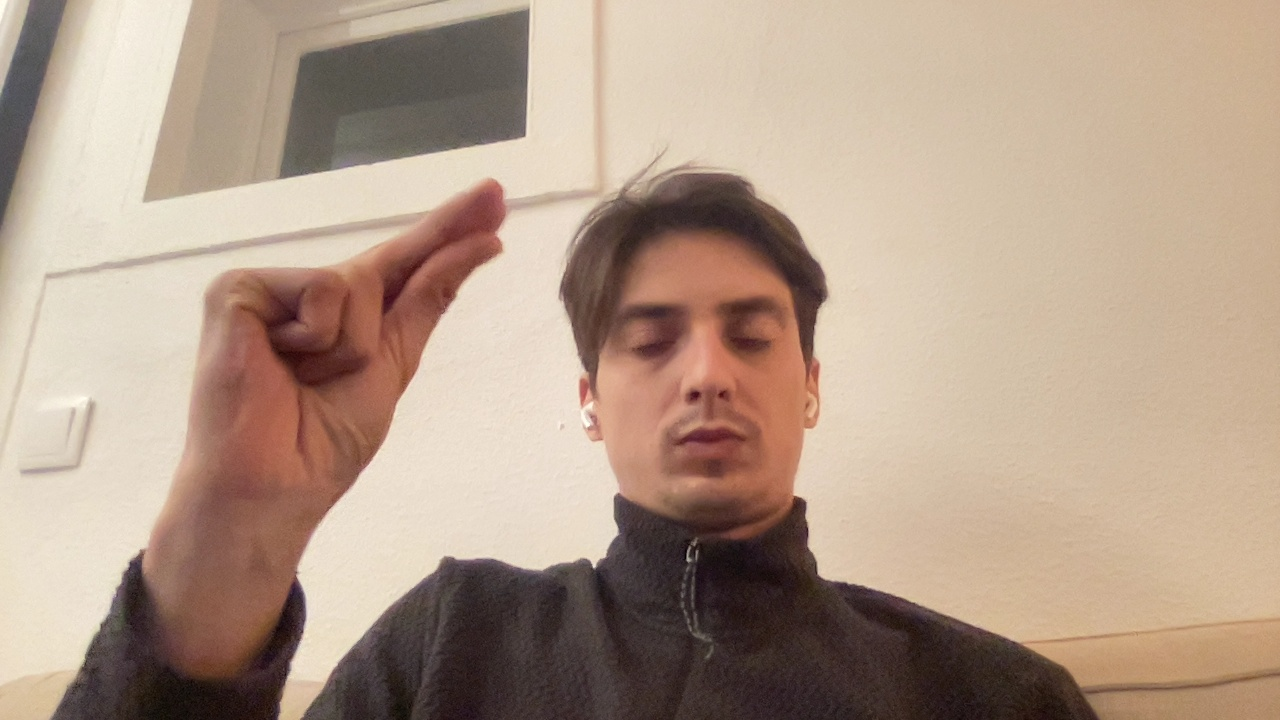no: (139, 139, 528, 543)
